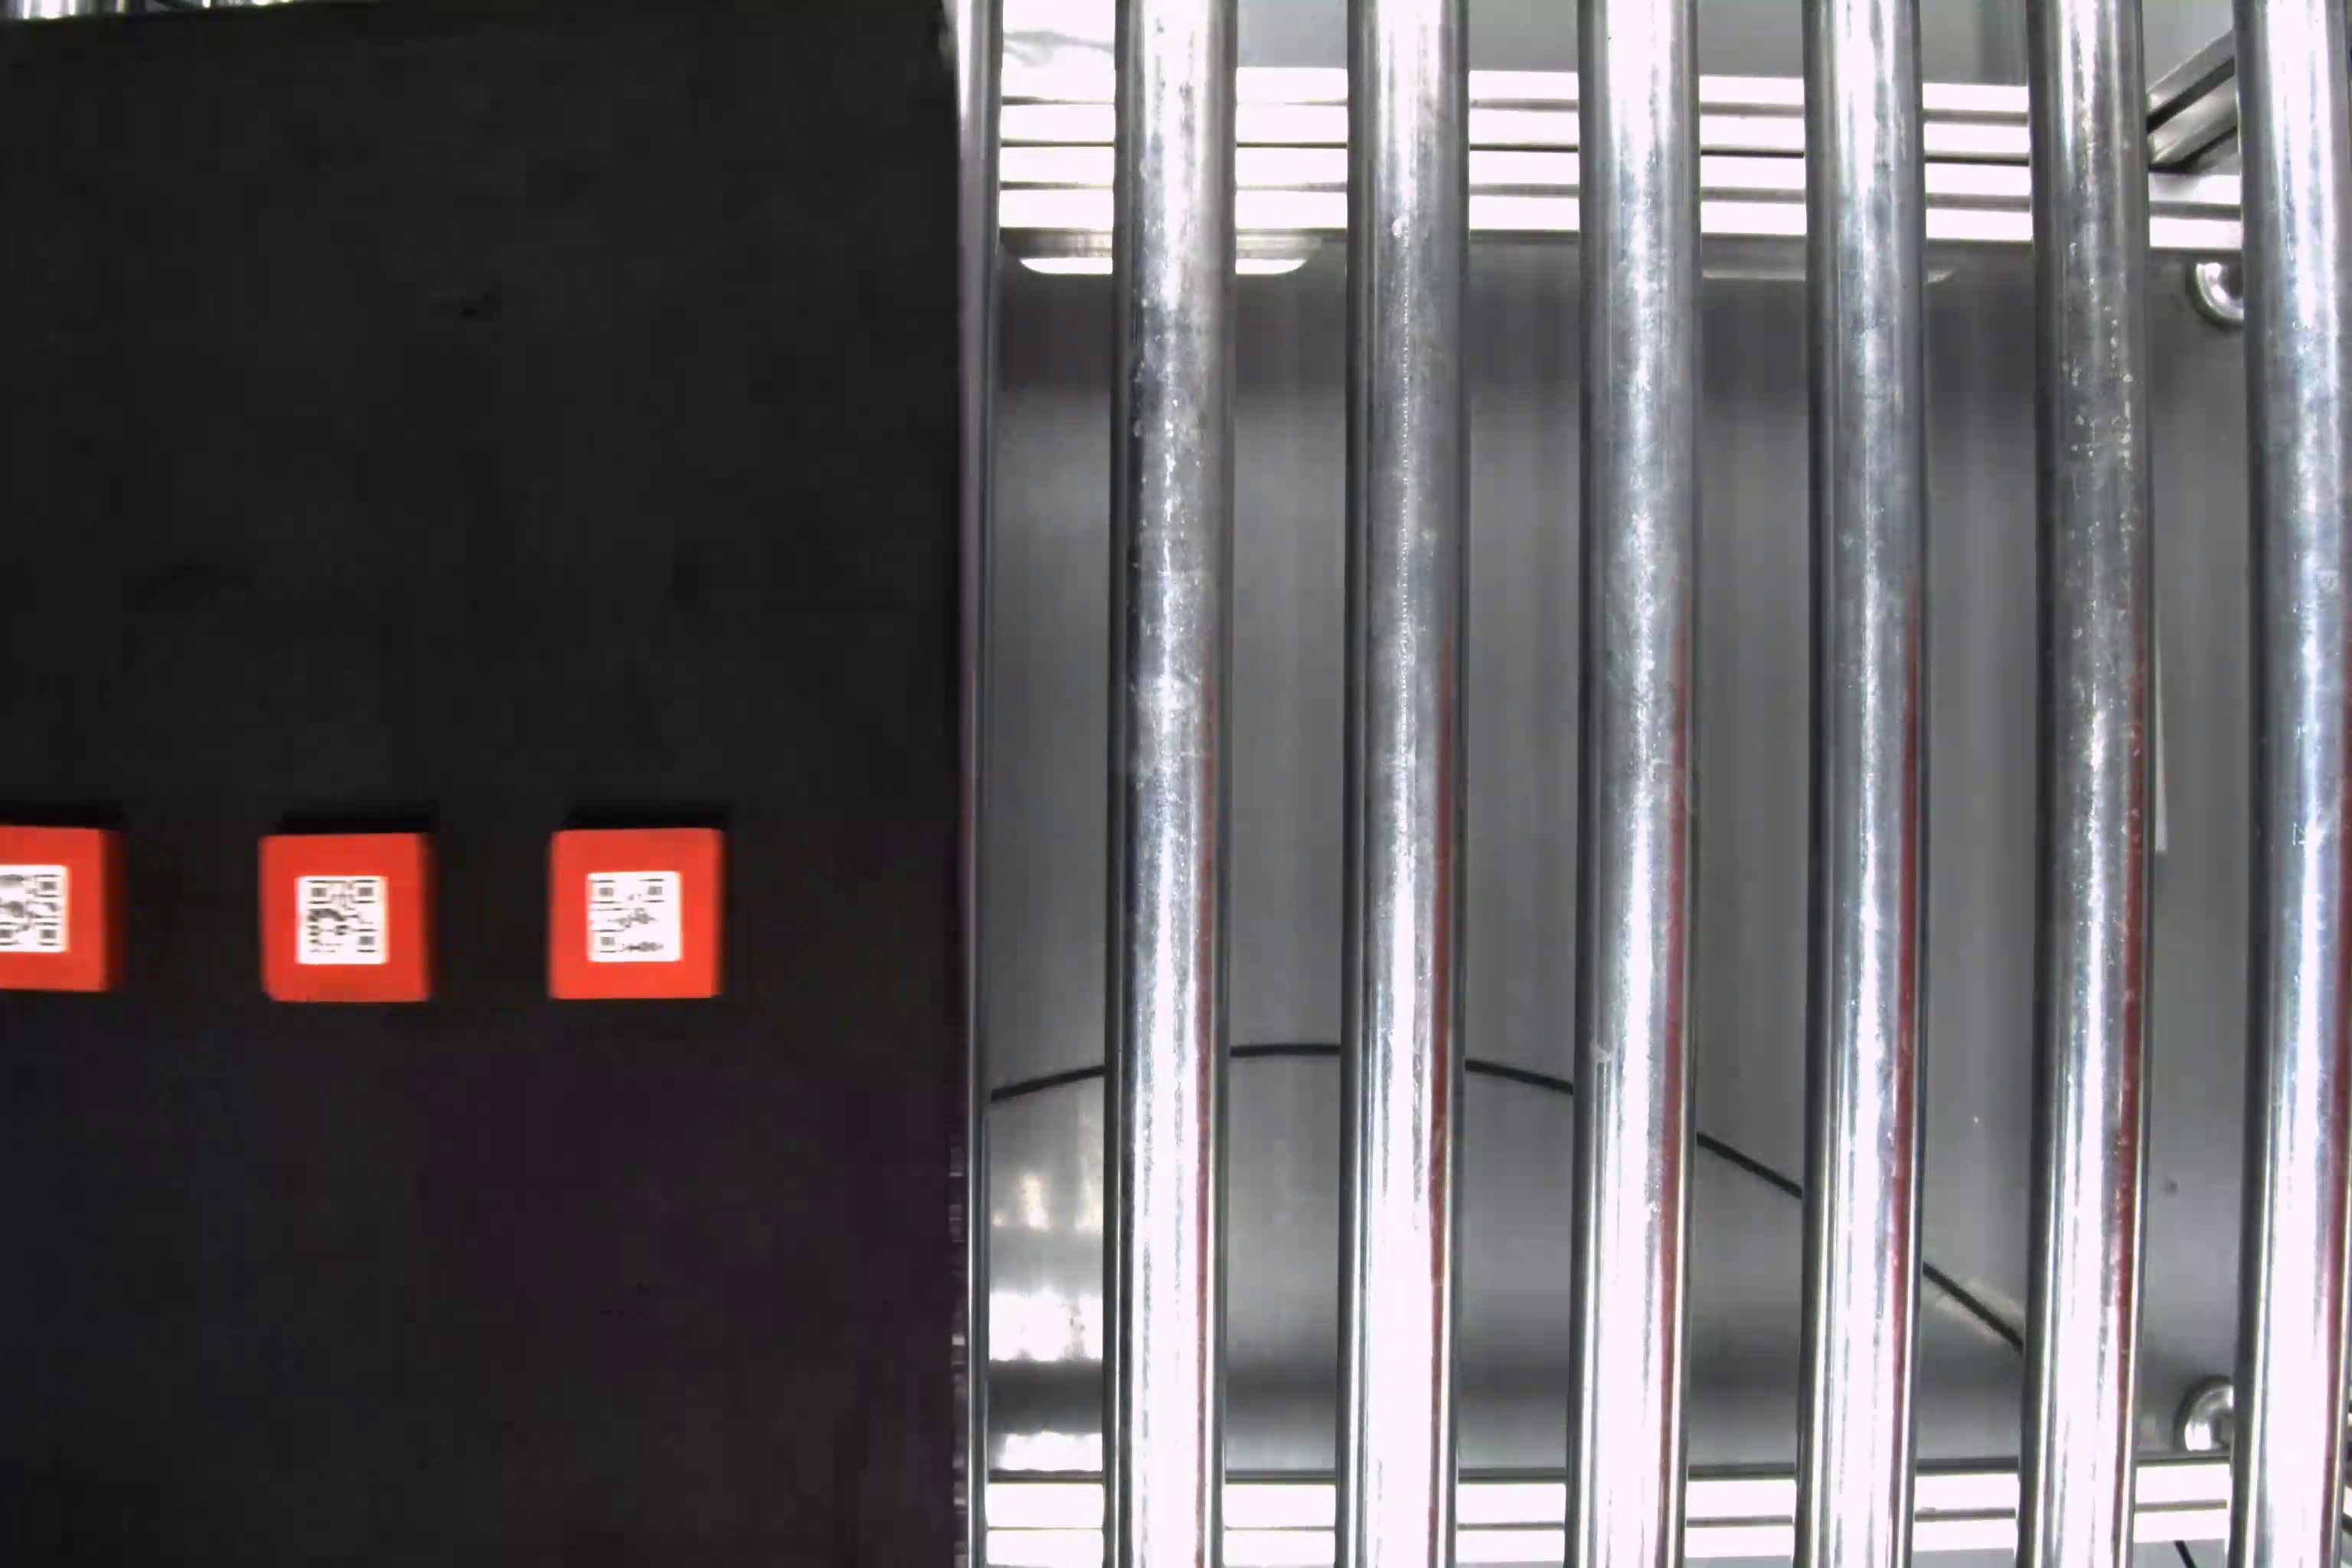wood: (255, 828, 444, 1006), (548, 826, 731, 1004), (3, 819, 135, 1001)
